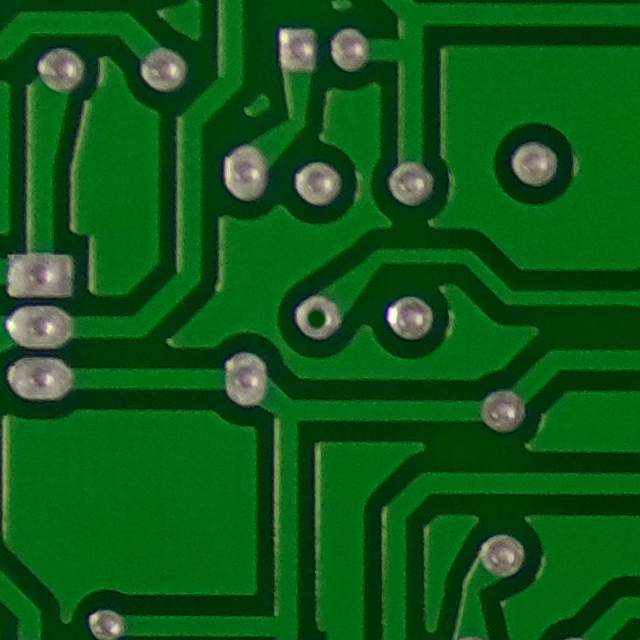missing_hole: (293, 291, 348, 349)
